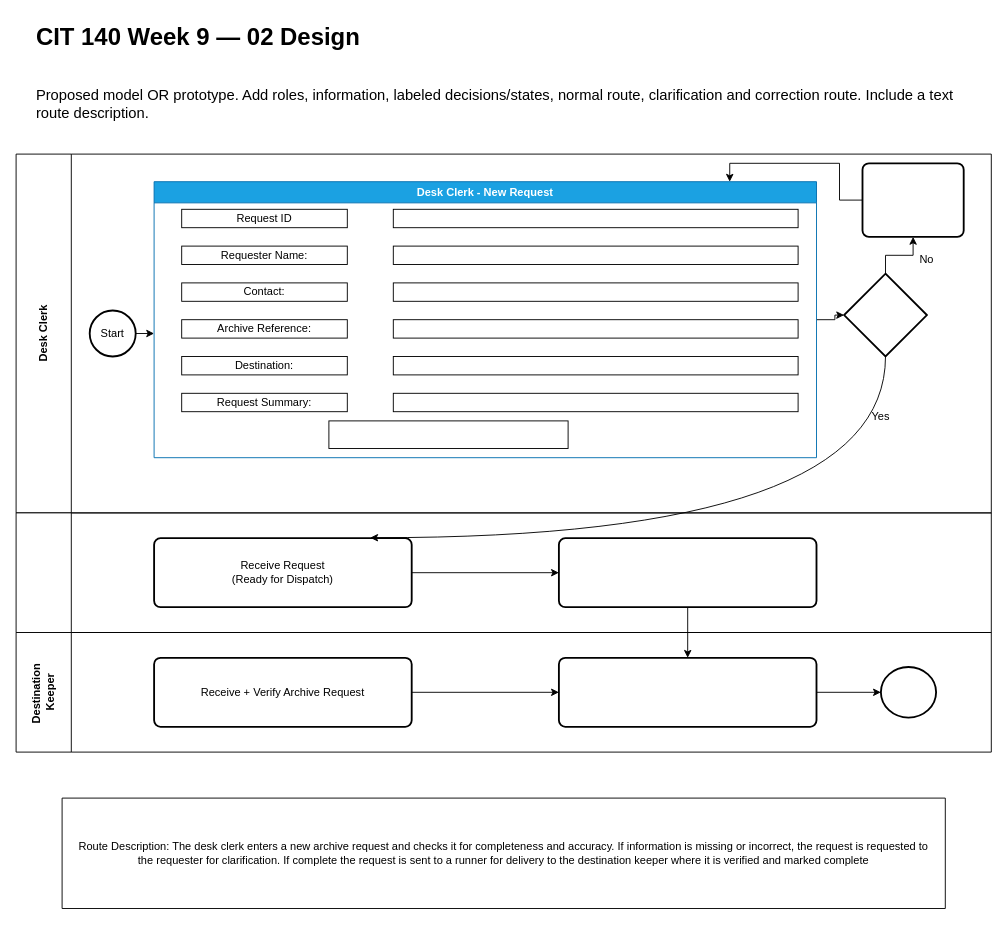
This 1007x925 diagram has some shape labels left out. The box of each missing label's shape, as (x1, y1, x2, y2) in pixels:
Check Request: (328, 420, 568, 448)
Complete + Correct: (843, 272, 927, 357)
Deliver to Destination Keeper: (558, 537, 817, 608)
End: (880, 666, 937, 718)
Mark Complete Delivered): (558, 656, 817, 727)
Needs clarification (return to requestor): (861, 162, 964, 237)
Runner: (15, 512, 991, 632)
